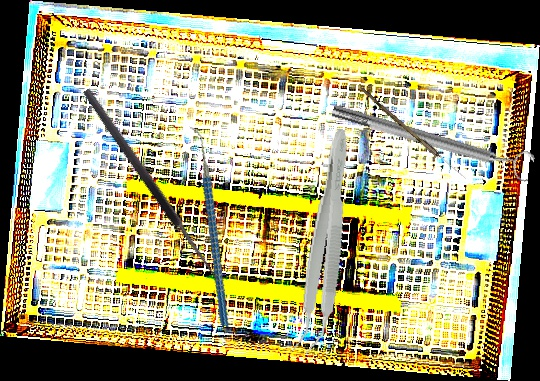Chopper: (147, 125, 269, 328)
Fixation Ring: (328, 92, 537, 186)
Hook Surgical: (80, 81, 231, 282)
Surgical Spoon: (359, 87, 468, 181)
Tissue Forceps: (290, 126, 357, 357)
